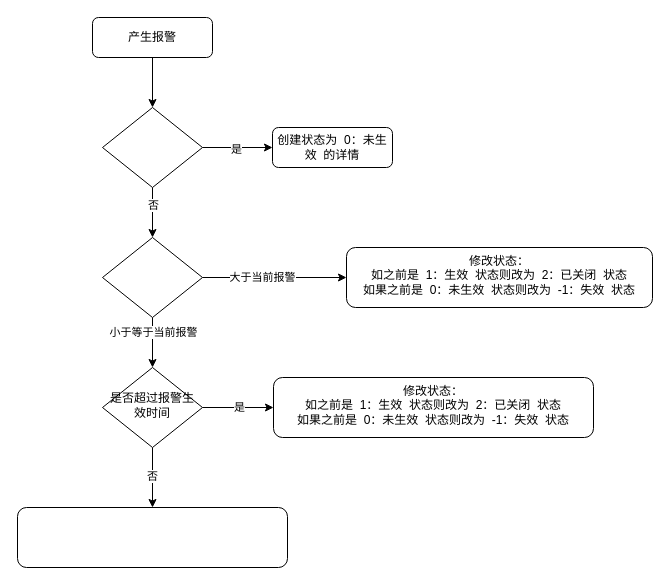
The diagram is 670 pixels wide and 585 high, and some of its shapes have lost their labels. Here are the shapes that lost their labels. From the top down, the box of each, then its label:
(102, 106, 202, 188): 是否首次报警
(102, 236, 202, 318): 历史报警详情 等级
(16, 506, 288, 568): 更新报警详情，最大值、最后时间、持续时间 如果报警等级小于当前报警，则将最大值更新为上级报警门限（如果等级为2级则将其最大值设置为3级报警门限）
